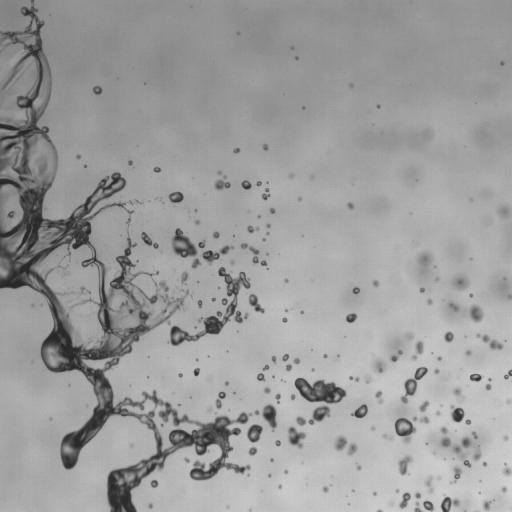droplet: (394, 415, 429, 443), (333, 435, 358, 456), (287, 426, 306, 449), (462, 304, 484, 322), (370, 353, 389, 373), (440, 493, 460, 511), (451, 273, 469, 291), (214, 170, 230, 190), (398, 454, 413, 475), (246, 424, 263, 442), (449, 404, 465, 423), (416, 250, 433, 266), (350, 404, 368, 418), (168, 191, 183, 207), (496, 203, 511, 219), (452, 385, 465, 403), (176, 270, 188, 285), (482, 499, 496, 511), (344, 312, 357, 324), (469, 373, 484, 382), (261, 188, 271, 201), (374, 390, 383, 404), (502, 462, 511, 476), (17, 108, 28, 119), (230, 180, 241, 191), (250, 185, 261, 196), (41, 194, 52, 205), (491, 196, 502, 207), (40, 208, 51, 219), (246, 234, 257, 245), (162, 236, 173, 247), (208, 240, 219, 251), (217, 255, 228, 266), (463, 268, 474, 279), (167, 277, 178, 288), (442, 277, 453, 288), (237, 287, 248, 298), (167, 288, 178, 299), (456, 289, 467, 300), (37, 294, 48, 305), (462, 297, 473, 308), (236, 300, 247, 311), (479, 303, 490, 314), (169, 314, 180, 325), (225, 318, 236, 329), (44, 319, 55, 330), (474, 320, 485, 331), (159, 323, 170, 334), (404, 342, 415, 353), (415, 355, 426, 366), (290, 367, 301, 378), (70, 368, 81, 379), (82, 380, 93, 391), (408, 394, 419, 405), (87, 396, 98, 407), (81, 409, 92, 420), (441, 409, 452, 420), (106, 413, 117, 424), (203, 413, 214, 424), (429, 416, 440, 427), (70, 420, 81, 431), (95, 427, 106, 438), (278, 430, 289, 441), (450, 434, 461, 445), (399, 442, 410, 453), (209, 443, 220, 454), (79, 444, 90, 455), (184, 444, 195, 455), (463, 445, 474, 456), (225, 452, 236, 463), (201, 453, 212, 464), (127, 454, 138, 465), (270, 463, 281, 474), (272, 471, 283, 482), (97, 482, 108, 493), (129, 487, 140, 498), (373, 496, 384, 507), (403, 331, 414, 341), (444, 331, 453, 343), (381, 432, 393, 441), (246, 225, 259, 233), (92, 85, 102, 94), (241, 180, 251, 189), (275, 392, 282, 404), (256, 372, 265, 381), (248, 446, 257, 455), (110, 193, 119, 202), (60, 211, 69, 220), (264, 213, 273, 222), (491, 213, 500, 222), (256, 218, 265, 227), (132, 234, 141, 243), (418, 243, 427, 252), (411, 247, 420, 256), (211, 259, 220, 268), (187, 268, 196, 277), (19, 284, 28, 293), (2, 286, 11, 295), (218, 287, 227, 296), (464, 316, 473, 325), (138, 332, 147, 341), (118, 354, 127, 363), (103, 369, 112, 378), (371, 371, 380, 380), (263, 377, 272, 386), (448, 379, 457, 388), (133, 392, 142, 401), (280, 393, 289, 402), (216, 407, 225, 416), (424, 407, 433, 416), (228, 410, 237, 419), (303, 410, 312, 419), (259, 418, 268, 427), (239, 423, 248, 432), (227, 434, 236, 443), (280, 435, 289, 444), (327, 437, 336, 446), (432, 439, 441, 448), (443, 446, 452, 455), (119, 459, 128, 468), (471, 459, 480, 468), (265, 462, 274, 471), (217, 466, 226, 475), (148, 470, 157, 479), (278, 474, 287, 483), (141, 476, 150, 485), (406, 498, 415, 507), (364, 374, 372, 383), (196, 298, 203, 308), (505, 474, 511, 485), (101, 505, 112, 511), (402, 505, 413, 511), (281, 353, 289, 361), (263, 386, 271, 394), (290, 391, 296, 401), (153, 166, 161, 173), (212, 231, 219, 239), (372, 279, 379, 287), (352, 286, 359, 294), (285, 363, 292, 371), (471, 431, 478, 439), (150, 480, 158, 487), (19, 0, 30, 5), (0, 21, 5, 32), (0, 71, 5, 82), (193, 367, 199, 376), (347, 202, 354, 209), (426, 298, 433, 305), (293, 357, 300, 364), (262, 364, 269, 371), (40, 42, 47, 49), (78, 157, 85, 164), (56, 160, 63, 167), (208, 179, 215, 186), (257, 186, 264, 193), (106, 196, 113, 203), (192, 212, 199, 219), (259, 225, 266, 232), (137, 239, 144, 246), (191, 239, 198, 246), (233, 241, 240, 248), (167, 247, 174, 254), (186, 255, 193, 262), (199, 257, 206, 264), (425, 263, 432, 270), (129, 266, 136, 273), (174, 271, 181, 278), (231, 272, 238, 279), (238, 285, 245, 292), (246, 287, 253, 294), (463, 287, 470, 294), (420, 292, 427, 299), (183, 296, 190, 303), (219, 305, 226, 312), (345, 307, 352, 314), (179, 323, 186, 330), (198, 323, 205, 330), (219, 326, 226, 333), (188, 328, 195, 335), (205, 332, 212, 339), (488, 333, 495, 340), (496, 336, 503, 343), (130, 341, 137, 348), (482, 341, 489, 348), (422, 344, 429, 351), (492, 347, 499, 354), (390, 348, 397, 355), (275, 353, 282, 360), (383, 355, 390, 362), (286, 357, 293, 364), (384, 358, 391, 365), (434, 361, 441, 368), (382, 368, 389, 375), (262, 369, 269, 376), (479, 377, 486, 384), (108, 378, 115, 385), (258, 380, 265, 387), (399, 387, 406, 394), (292, 388, 299, 395), (269, 389, 276, 396), (269, 398, 276, 405), (318, 399, 325, 406), (170, 402, 177, 409), (327, 402, 334, 409), (416, 410, 423, 417), (274, 414, 281, 421), (226, 423, 233, 430), (295, 425, 302, 432), (146, 428, 153, 435), (445, 431, 452, 438), (437, 432, 444, 439), (394, 434, 401, 441), (345, 437, 352, 444), (469, 437, 476, 444), (149, 439, 156, 446), (355, 441, 362, 448), (290, 443, 297, 450), (342, 444, 349, 451), (150, 447, 157, 454), (397, 452, 404, 459), (165, 454, 172, 461), (223, 456, 230, 463), (55, 457, 62, 464), (456, 460, 463, 467), (73, 462, 80, 469), (186, 462, 193, 469), (405, 462, 412, 469), (392, 463, 399, 470), (459, 464, 466, 471), (200, 478, 207, 485), (430, 479, 437, 486), (395, 495, 402, 502), (417, 496, 424, 503), (458, 501, 465, 508), (476, 502, 483, 509), (271, 355, 276, 364), (356, 462, 361, 471), (506, 198, 511, 207), (506, 213, 511, 222), (432, 506, 441, 511), (448, 506, 457, 511), (487, 506, 496, 511), (262, 144, 268, 151), (233, 147, 240, 153), (269, 207, 275, 214), (464, 419, 471, 425), (184, 456, 190, 463), (501, 486, 507, 493), (207, 405, 212, 413), (288, 173, 294, 179), (194, 219, 200, 225), (465, 350, 471, 356), (505, 398, 511, 404), (275, 440, 281, 446), (322, 486, 328, 492), (0, 127, 4, 136), (75, 154, 81, 159), (230, 259, 235, 265), (281, 317, 287, 322), (224, 380, 229, 386), (435, 410, 441, 415), (370, 425, 375, 431), (503, 435, 508, 441), (388, 501, 394, 506), (148, 503, 153, 509), (507, 461, 511, 468), (507, 473, 511, 480), (507, 485, 511, 492), (256, 181, 261, 186), (297, 196, 302, 201), (265, 223, 270, 228), (210, 297, 215, 302), (437, 356, 442, 361), (482, 461, 487, 466), (26, 4, 31, 9), (25, 14, 30, 19), (19, 26, 24, 31), (39, 26, 44, 31), (1, 27, 6, 32), (8, 27, 13, 32), (17, 42, 22, 47), (47, 59, 52, 64), (48, 62, 53, 67), (50, 71, 55, 76), (91, 81, 96, 86), (50, 84, 55, 89), (101, 87, 106, 92), (50, 88, 55, 93), (93, 93, 98, 98), (49, 94, 54, 99), (47, 100, 52, 105), (43, 108, 48, 113), (46, 131, 51, 136), (232, 143, 237, 148), (267, 143, 272, 148), (54, 144, 59, 149), (258, 146, 263, 151), (56, 150, 61, 155), (234, 152, 239, 157), (114, 167, 119, 172), (221, 169, 226, 174), (107, 170, 112, 175), (100, 173, 105, 178), (217, 174, 222, 179), (260, 178, 265, 183), (250, 181, 255, 186), (50, 183, 55, 188), (92, 183, 97, 188), (123, 184, 128, 189), (221, 186, 226, 191), (171, 187, 176, 192), (244, 188, 249, 193), (181, 190, 186, 195), (85, 191, 90, 196), (257, 195, 262, 200), (80, 198, 85, 203), (165, 198, 170, 203), (178, 200, 183, 205), (143, 201, 148, 206), (352, 201, 357, 206), (125, 203, 130, 208), (344, 206, 349, 211), (90, 208, 95, 213), (265, 209, 270, 214), (251, 223, 256, 228), (194, 224, 199, 229), (216, 227, 221, 232), (252, 229, 257, 234), (208, 230, 213, 235), (244, 230, 249, 235), (170, 231, 175, 236), (264, 234, 269, 239), (240, 238, 245, 243), (247, 241, 252, 246), (142, 242, 147, 247), (193, 243, 198, 248), (148, 244, 153, 249), (253, 244, 258, 249), (129, 246, 134, 251), (202, 246, 207, 251), (244, 247, 249, 252), (227, 248, 232, 253), (249, 252, 254, 257), (175, 253, 180, 258), (218, 253, 223, 258), (127, 254, 132, 259), (257, 256, 262, 261), (431, 259, 436, 264), (255, 262, 260, 267), (196, 264, 201, 269), (224, 268, 229, 273), (213, 270, 218, 275), (152, 274, 157, 279), (219, 275, 224, 280), (374, 275, 379, 280), (185, 278, 190, 283), (377, 279, 382, 284), (165, 281, 170, 286), (176, 281, 181, 286), (368, 282, 373, 287), (182, 284, 187, 289), (166, 290, 171, 295), (222, 293, 227, 298), (429, 294, 434, 299), (216, 297, 221, 302), (256, 299, 261, 304), (422, 300, 427, 305), (427, 304, 432, 309), (234, 305, 239, 310), (249, 305, 254, 310), (447, 306, 452, 311), (174, 309, 179, 314), (255, 310, 260, 315), (239, 312, 244, 317), (282, 312, 287, 317), (229, 314, 234, 319), (341, 314, 346, 319), (353, 318, 358, 323), (234, 321, 239, 326), (349, 321, 354, 326), (440, 330, 445, 335), (479, 330, 484, 335), (165, 334, 170, 339), (198, 336, 203, 341), (440, 337, 445, 342), (451, 337, 456, 342), (477, 337, 482, 342), (182, 339, 187, 344), (189, 339, 194, 344), (167, 342, 172, 347), (36, 343, 41, 348), (172, 344, 177, 349), (399, 345, 404, 350), (464, 345, 469, 350), (460, 349, 465, 354), (470, 351, 475, 356), (433, 352, 438, 357), (416, 353, 421, 358), (461, 353, 466, 358), (36, 354, 41, 359), (397, 354, 402, 359), (467, 354, 472, 359), (298, 356, 303, 361), (37, 357, 42, 362), (267, 360, 272, 365), (298, 360, 303, 365), (393, 360, 398, 365), (290, 362, 295, 367), (41, 364, 46, 369), (111, 364, 116, 369), (438, 366, 443, 371), (257, 368, 262, 373), (468, 369, 473, 374), (476, 369, 481, 374), (503, 369, 508, 374), (49, 370, 54, 375), (197, 371, 202, 376), (351, 372, 356, 377), (299, 373, 304, 378), (409, 373, 414, 378), (422, 374, 427, 379), (274, 375, 279, 380), (290, 377, 295, 382), (358, 377, 363, 382), (323, 378, 328, 383), (400, 378, 405, 383), (415, 379, 420, 384), (472, 380, 477, 385), (488, 380, 493, 385), (372, 388, 377, 393), (344, 389, 349, 394), (460, 389, 465, 394), (155, 392, 160, 397), (379, 393, 384, 398), (213, 394, 218, 399), (406, 394, 411, 399), (341, 396, 346, 401), (162, 397, 167, 402), (301, 397, 306, 402), (398, 400, 403, 405), (111, 401, 116, 406), (211, 403, 216, 408), (453, 403, 458, 408), (366, 404, 371, 409), (425, 405, 430, 410), (350, 407, 355, 412), (258, 409, 263, 414), (397, 413, 402, 418), (125, 414, 130, 419), (187, 414, 192, 419), (394, 414, 399, 419), (322, 415, 327, 420), (351, 415, 356, 420), (359, 416, 364, 421), (407, 416, 412, 421), (461, 416, 466, 421), (313, 419, 318, 424), (452, 420, 457, 425), (304, 421, 309, 426), (411, 421, 416, 426), (142, 423, 147, 428), (273, 426, 278, 431), (390, 426, 395, 431), (435, 426, 440, 431), (475, 430, 480, 435), (259, 431, 264, 436), (409, 432, 414, 437), (468, 434, 473, 439), (382, 438, 387, 443), (251, 441, 256, 446), (227, 450, 232, 455), (254, 451, 259, 456), (352, 451, 357, 456), (451, 451, 456, 456), (144, 454, 149, 459), (478, 457, 483, 462), (468, 458, 473, 463), (358, 460, 363, 465), (249, 463, 254, 468), (351, 463, 356, 468), (499, 464, 504, 469), (203, 465, 208, 470), (360, 466, 365, 471), (229, 468, 234, 473), (357, 469, 362, 474), (449, 470, 454, 475), (236, 471, 241, 476), (432, 472, 437, 477), (402, 473, 407, 478), (422, 475, 427, 480), (449, 475, 454, 480), (190, 478, 195, 483), (323, 481, 328, 486), (317, 486, 322, 491), (327, 486, 332, 491), (496, 486, 501, 491), (497, 489, 502, 494), (322, 491, 327, 496), (502, 491, 507, 496), (409, 492, 414, 497), (439, 495, 444, 500), (449, 495, 454, 500), (427, 496, 432, 501), (485, 496, 490, 501), (488, 502, 493, 507), (152, 503, 157, 508), (378, 504, 383, 509), (418, 504, 423, 509), (278, 483, 282, 489), (128, 160, 132, 165), (435, 276, 439, 281), (284, 278, 288, 283), (507, 294, 511, 299), (284, 308, 288, 313), (178, 372, 182, 377), (129, 443, 133, 448), (284, 469, 288, 474), (395, 488, 399, 493), (372, 491, 377, 495), (294, 56, 298, 60), (500, 61, 504, 65), (349, 83, 353, 87), (376, 104, 380, 108), (310, 175, 314, 179), (262, 237, 266, 241), (469, 293, 473, 297), (300, 310, 304, 314), (323, 354, 327, 358), (432, 451, 436, 455), (226, 504, 229, 509), (508, 289, 511, 294), (508, 375, 511, 380), (508, 394, 511, 399), (508, 402, 511, 407), (508, 435, 511, 440), (147, 508, 152, 511), (225, 508, 230, 511), (480, 508, 485, 511), (290, 46, 294, 49), (301, 106, 305, 109), (83, 164, 87, 167), (194, 208, 197, 212), (257, 214, 260, 218), (266, 231, 269, 235), (469, 257, 473, 260), (31, 303, 34, 307), (310, 368, 314, 371), (272, 374, 275, 378), (177, 403, 181, 406), (439, 404, 443, 407), (270, 458, 273, 462), (268, 473, 271, 477), (351, 489, 355, 492), (232, 234, 235, 237), (266, 252, 269, 255), (433, 265, 436, 268), (503, 277, 506, 280), (196, 280, 199, 283), (217, 286, 220, 289), (464, 335, 467, 338), (310, 348, 313, 351), (195, 358, 198, 361), (49, 417, 52, 420), (247, 473, 250, 476), (347, 502, 350, 505), (248, 508, 251, 511), (295, 53, 298, 56), (291, 55, 294, 58), (292, 58, 295, 61), (502, 59, 505, 62), (497, 62, 500, 65), (501, 64, 504, 67), (140, 81, 143, 84), (303, 103, 306, 106), (379, 104, 382, 107), (373, 105, 376, 108), (46, 124, 49, 127), (239, 147, 242, 150), (262, 149, 265, 152), (79, 152, 82, 155), (73, 153, 76, 156), (127, 157, 130, 160), (131, 158, 134, 161), (125, 161, 128, 164), (131, 162, 134, 165), (80, 164, 83, 167), (86, 164, 89, 167), (152, 164, 155, 167), (157, 164, 160, 167), (83, 167, 86, 170), (154, 171, 157, 174), (265, 177, 268, 180), (223, 179, 226, 182), (239, 179, 242, 182), (268, 180, 271, 183), (241, 187, 244, 190), (179, 189, 182, 192), (147, 196, 150, 199), (138, 198, 141, 201), (150, 198, 153, 201), (155, 198, 158, 201), (120, 199, 123, 202), (158, 201, 161, 204), (136, 202, 139, 205), (196, 207, 199, 210), (190, 208, 193, 211), (274, 209, 277, 212), (130, 212, 133, 215), (272, 212, 275, 215), (129, 220, 132, 223), (267, 220, 270, 223), (128, 224, 131, 227), (270, 224, 273, 227), (266, 228, 269, 231), (145, 231, 148, 234), (218, 233, 221, 236), (234, 233, 237, 236), (147, 234, 150, 237), (199, 238, 202, 241), (156, 241, 159, 244), (227, 243, 230, 246), (157, 244, 160, 247), (265, 259, 268, 262), (262, 265, 265, 268), (143, 268, 146, 271), (240, 268, 243, 271), (265, 269, 268, 272), (148, 270, 151, 273), (158, 271, 161, 274), (245, 274, 248, 277), (432, 276, 435, 279), (287, 277, 290, 280), (198, 278, 201, 281), (281, 279, 284, 282), (155, 280, 158, 283), (248, 280, 251, 283), (287, 280, 290, 283), (198, 281, 201, 284), (194, 282, 197, 285), (284, 282, 287, 285), (356, 284, 359, 287), (420, 284, 423, 287), (350, 286, 353, 289), (359, 288, 362, 291), (416, 288, 419, 291), (188, 290, 191, 293), (420, 291, 423, 294), (356, 292, 359, 295), (353, 293, 356, 296), (177, 294, 180, 297), (211, 294, 214, 297), (472, 294, 475, 297), (196, 297, 199, 300), (208, 298, 211, 301), (444, 299, 447, 302), (195, 303, 198, 306), (299, 307, 302, 310), (287, 308, 290, 311), (303, 310, 306, 313), (300, 313, 303, 316), (246, 316, 249, 319), (286, 317, 289, 320), (281, 321, 284, 324), (464, 332, 467, 335), (473, 332, 476, 335), (506, 339, 509, 342), (130, 349, 133, 352), (228, 349, 231, 352), (323, 350, 326, 353), (336, 350, 339, 353), (208, 352, 211, 355), (271, 352, 274, 355), (281, 352, 284, 355), (320, 353, 323, 356), (326, 353, 329, 356), (333, 353, 336, 356), (196, 355, 199, 358), (338, 355, 341, 358), (206, 357, 209, 360), (323, 357, 326, 360), (440, 358, 443, 361), (261, 364, 264, 367), (311, 364, 314, 367), (417, 364, 420, 367), (424, 364, 427, 367), (308, 366, 311, 369), (176, 370, 179, 373), (474, 370, 477, 373), (146, 372, 149, 375), (182, 373, 185, 376), (254, 373, 257, 376), (434, 373, 437, 376), (175, 374, 178, 377), (143, 375, 146, 378), (194, 375, 197, 378), (263, 375, 266, 378), (466, 375, 469, 378), (148, 376, 151, 379), (179, 376, 182, 379), (490, 376, 493, 379), (501, 376, 504, 379), (282, 377, 285, 380), (223, 378, 226, 381), (255, 378, 258, 381), (280, 380, 283, 383), (368, 381, 371, 384), (227, 383, 230, 386), (365, 383, 368, 386), (219, 388, 222, 391), (232, 388, 235, 391), (487, 389, 490, 392), (235, 391, 238, 394), (224, 394, 227, 397), (191, 395, 194, 398), (278, 398, 281, 401), (470, 419, 473, 422), (272, 442, 275, 445), (421, 442, 424, 445), (427, 442, 430, 445), (279, 443, 282, 446), (424, 444, 427, 447), (275, 445, 278, 448), (272, 456, 275, 459), (267, 457, 270, 460), (182, 459, 185, 462), (503, 459, 506, 462), (485, 460, 488, 463), (481, 465, 484, 468), (281, 468, 284, 471), (287, 470, 290, 473), (264, 473, 267, 476), (283, 473, 286, 476), (459, 473, 462, 476), (270, 474, 273, 477), (456, 478, 459, 481), (156, 479, 159, 482), (451, 482, 454, 485), (275, 484, 278, 487), (281, 484, 284, 487), (154, 486, 157, 489), (352, 486, 355, 489), (276, 488, 279, 491), (348, 488, 351, 491), (372, 488, 375, 491), (476, 488, 479, 491), (354, 489, 357, 492), (350, 491, 353, 494), (376, 491, 379, 494), (369, 492, 372, 495), (475, 492, 478, 495), (372, 495, 375, 498), (145, 503, 148, 506), (374, 507, 377, 510), (232, 392, 236, 394), (236, 32, 239, 34), (470, 198, 472, 201), (147, 200, 150, 202), (301, 234, 303, 237), (40, 303, 42, 306), (194, 326, 196, 329), (504, 339, 506, 342), (430, 352, 433, 354), (207, 355, 210, 357), (86, 404, 88, 407), (228, 408, 230, 411), (452, 457, 454, 460), (443, 458, 446, 460), (478, 491, 480, 494), (463, 509, 466, 511), (509, 298, 511, 301), (245, 509, 248, 511), (250, 509, 253, 511), (425, 509, 428, 511), (144, 82, 146, 84), (266, 181, 268, 183), (226, 350, 228, 352), (147, 356, 149, 358), (147, 376, 149, 378), (68, 384, 70, 386), (189, 396, 191, 398), (301, 461, 303, 463), (479, 480, 481, 482), (0, 46, 1, 49), (237, 330, 238, 332), (455, 429, 456, 431), (346, 495, 347, 497)
ligament: (170, 228, 234, 269), (439, 422, 481, 467), (400, 366, 427, 403), (240, 243, 269, 270), (141, 231, 163, 254), (262, 402, 278, 432), (475, 333, 503, 350), (245, 293, 265, 313), (410, 340, 424, 362), (388, 349, 403, 368), (449, 464, 462, 484), (398, 492, 411, 509), (215, 391, 226, 409), (434, 368, 450, 380), (446, 300, 460, 312), (418, 399, 429, 413), (485, 377, 491, 390), (504, 368, 511, 379), (419, 287, 431, 293), (154, 196, 164, 203), (348, 376, 359, 382), (334, 354, 339, 359), (280, 378, 286, 382), (376, 509, 383, 511), (473, 510, 480, 511)
